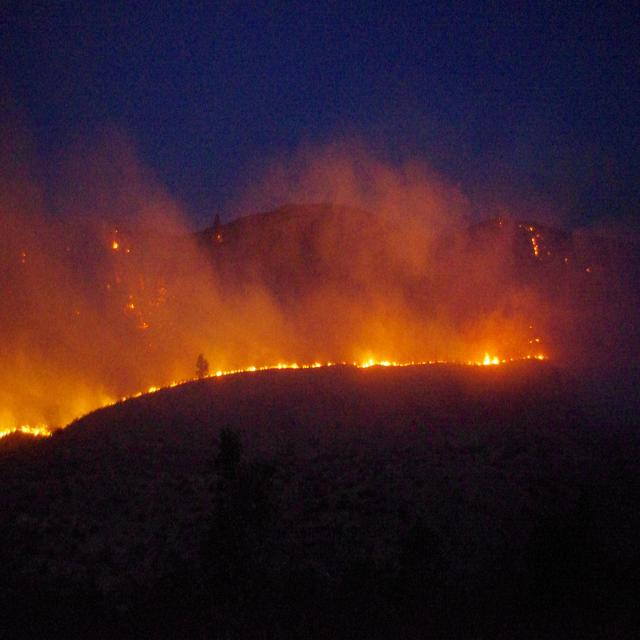Smoke: (30, 202, 571, 364)
